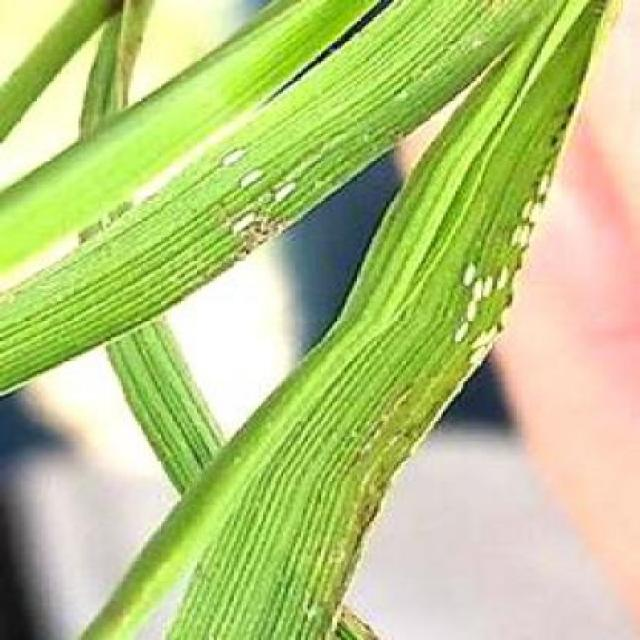whorl-maggot: (209, 145, 257, 172), (506, 223, 539, 259), (228, 211, 266, 238), (277, 178, 309, 210), (471, 269, 498, 306), (454, 254, 477, 292), (528, 165, 555, 197), (522, 196, 549, 227), (492, 262, 514, 298), (454, 318, 483, 344), (234, 171, 268, 189)
